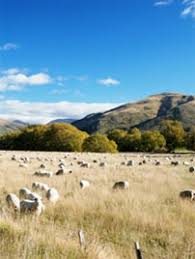sheep: (18, 197, 43, 216), (5, 192, 22, 213), (45, 186, 62, 205), (179, 188, 195, 206), (30, 168, 52, 181), (53, 165, 73, 178), (77, 177, 93, 193), (111, 178, 128, 192), (31, 182, 46, 193), (169, 159, 178, 167), (79, 162, 89, 169), (97, 161, 107, 168), (10, 155, 18, 163), (126, 159, 133, 168), (188, 165, 195, 174), (153, 160, 161, 167), (40, 163, 47, 170)
